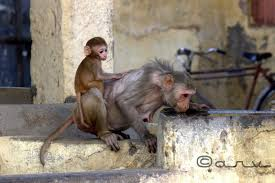monkey: (73, 37, 262, 139), (43, 29, 126, 91)
